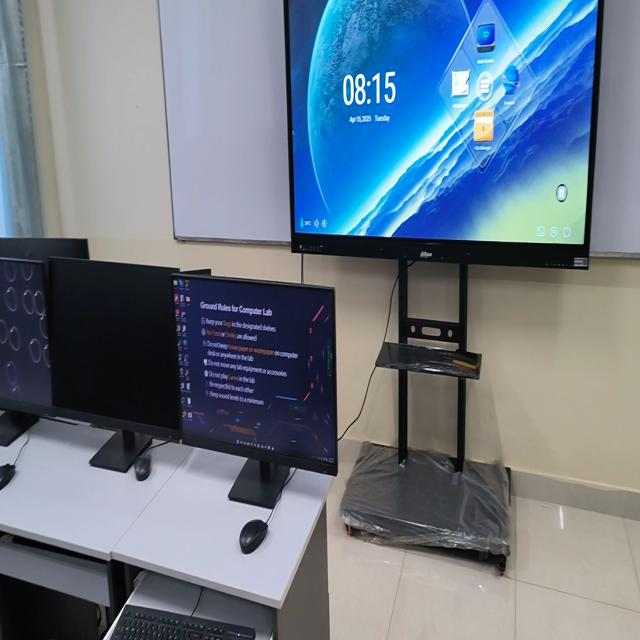Digital board: (285, 0, 603, 570)
Keyboard: (110, 604, 255, 639)
Monitor: (172, 274, 337, 508), (48, 259, 180, 472), (0, 258, 51, 446), (0, 238, 89, 261)
Mouse: (239, 520, 268, 553), (133, 455, 151, 481), (0, 463, 15, 489)
